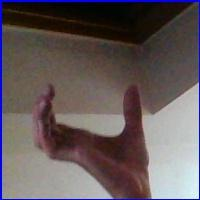space: (25, 75, 156, 185)
